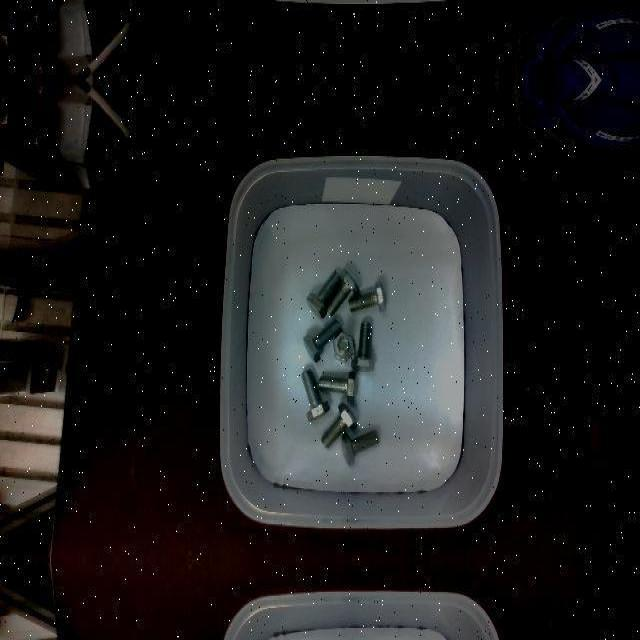screw: (320, 402, 356, 448), (325, 268, 359, 316), (306, 271, 341, 317), (303, 319, 341, 361), (299, 369, 329, 421), (341, 429, 379, 465), (317, 372, 357, 404), (352, 322, 375, 372), (348, 281, 386, 311), (332, 330, 354, 360)
